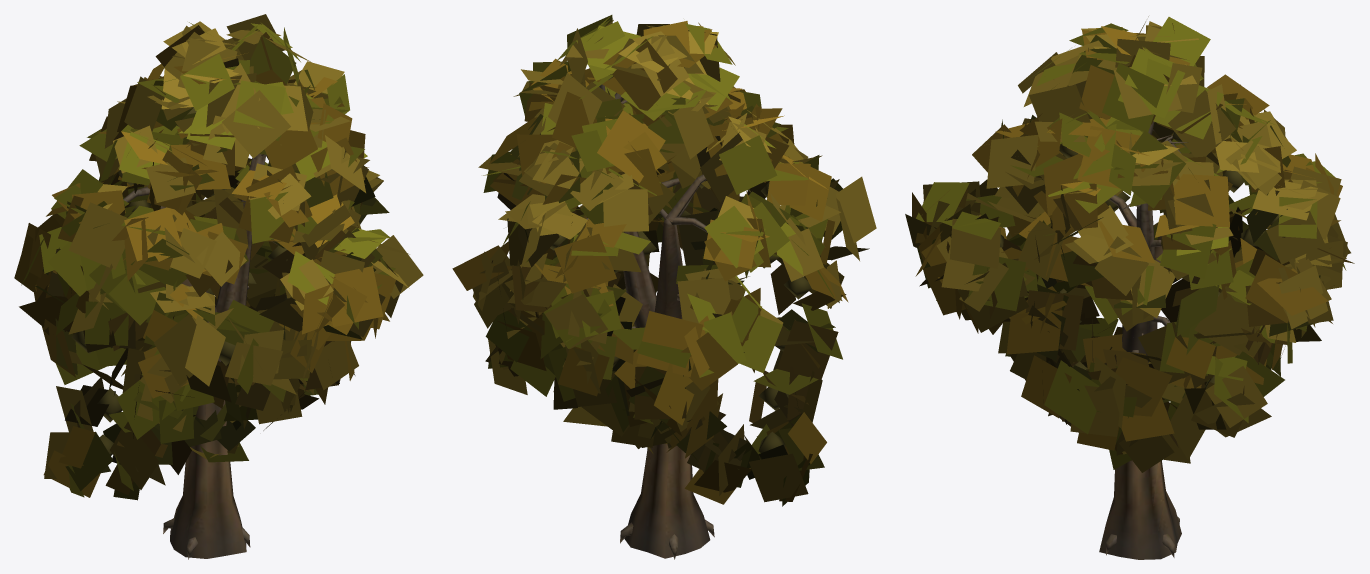
Rendered from tree-07.glb.
3 views of the same model, side by side, from view 1: azimuth 30°, elevation 25°; view 2: azimuth 150°, elevation 25°; view 3: azimuth 270°, elevation 25° (orthographic). The views are drawn at different scales.
Visible parts, largest first — view 1: tree-07; view 2: tree-07; view 3: tree-07.
Boxes of the visible parts, box(x1,y1,x2,y2) form: tree-07: box(14, 14, 423, 559); tree-07: box(452, 15, 876, 559); tree-07: box(905, 16, 1354, 559).
Bounding box in the file's own units: 4.06 × 6.41 × 4.98.
Materials: 3 (1 with a texture image).
